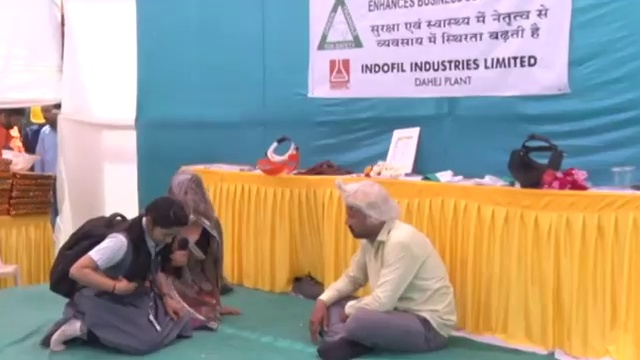helmet: (1, 150, 40, 173), (30, 107, 45, 125)
helmet_off: (338, 182, 394, 250), (136, 199, 195, 247), (168, 173, 212, 232), (0, 106, 26, 132), (40, 102, 60, 128)
helmet_on: (30, 107, 45, 129)
person: (307, 176, 460, 359), (39, 194, 192, 346), (131, 181, 228, 339), (32, 103, 60, 176), (0, 107, 27, 159), (22, 105, 46, 154)
